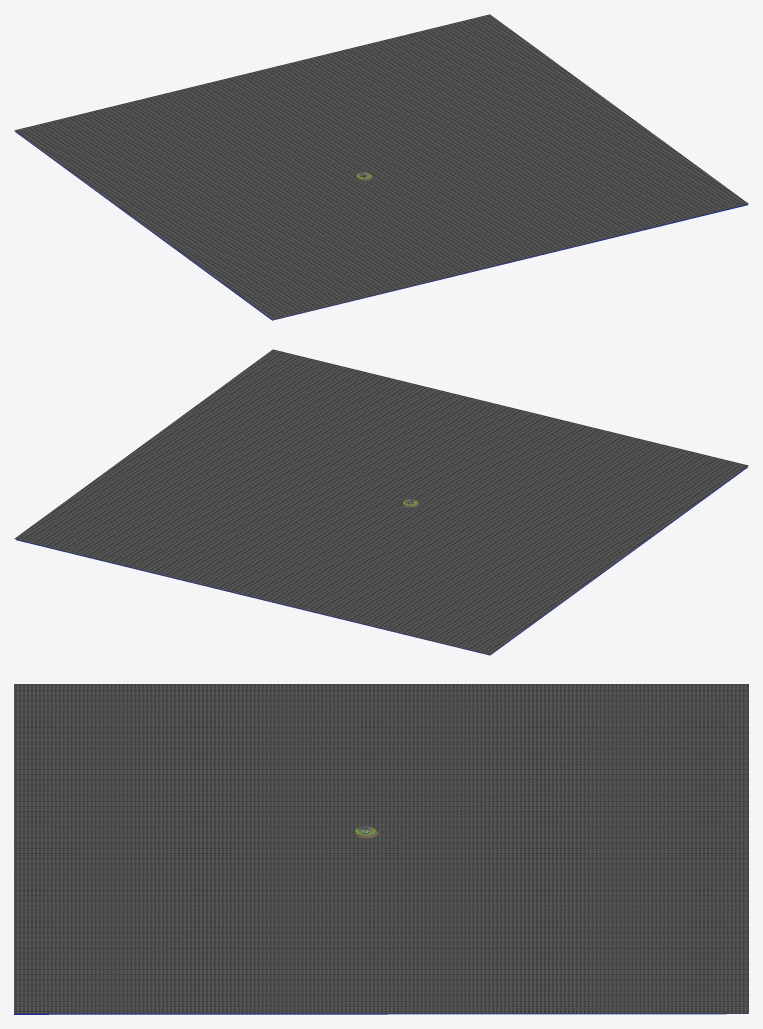
3 renders of one model, top to bottom at view 1: azimuth 30°, elevation 25°; view 2: azimuth 150°, elevation 25°; view 3: azimuth 270°, elevation 25°, orthographic. The views are drawn at different scales.
Parts seen in each view (by area): view 1: wcc.017, wcc.020; view 2: wcc.017, wcc.020; view 3: wcc.017, wcc.020.
Boxes of the visible parts, left/top/right/bottom form: wcc.017: left=14, top=14, right=748, bottom=319; wcc.020: left=15, top=131, right=748, bottom=320; wcc.017: left=14, top=349, right=748, bottom=654; wcc.020: left=16, top=466, right=747, bottom=655; wcc.017: left=14, top=684, right=748, bottom=1013; wcc.020: left=14, top=1013, right=747, bottom=1014.
Size of the model in its own units: 3923164 by 32744 by 3696876.
Materials: 26 (25 with a texture image).
